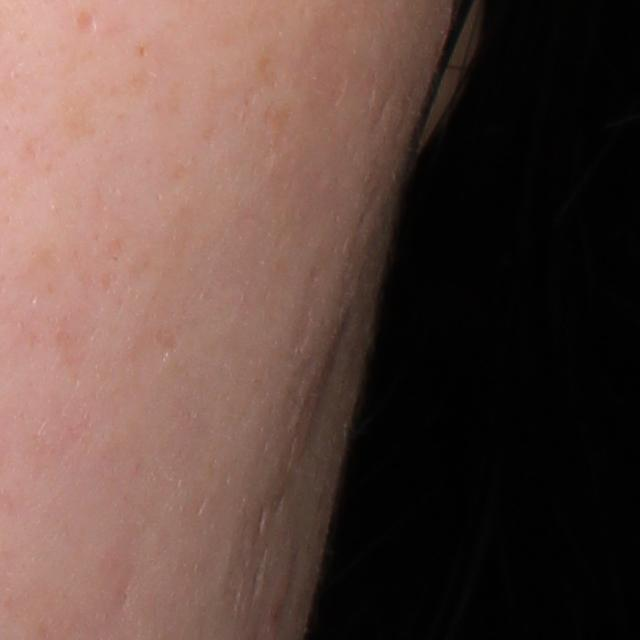atrophic_scar: (302, 321, 352, 454), (76, 9, 99, 39)
